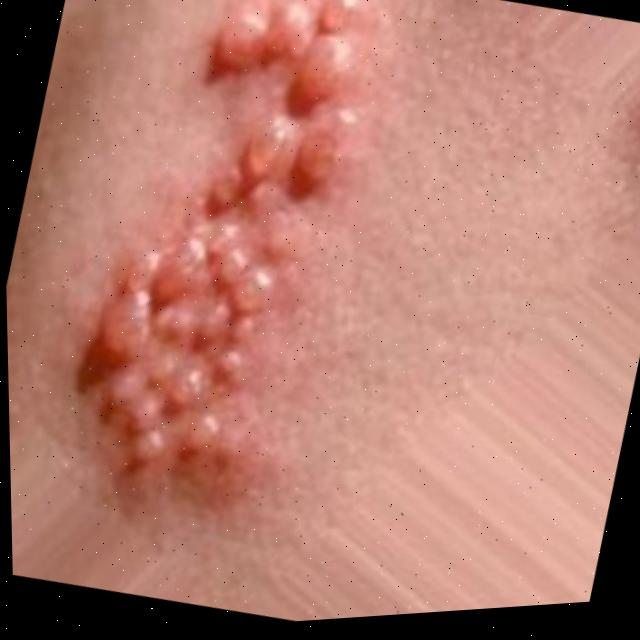Shingles: (41, 0, 402, 531)
